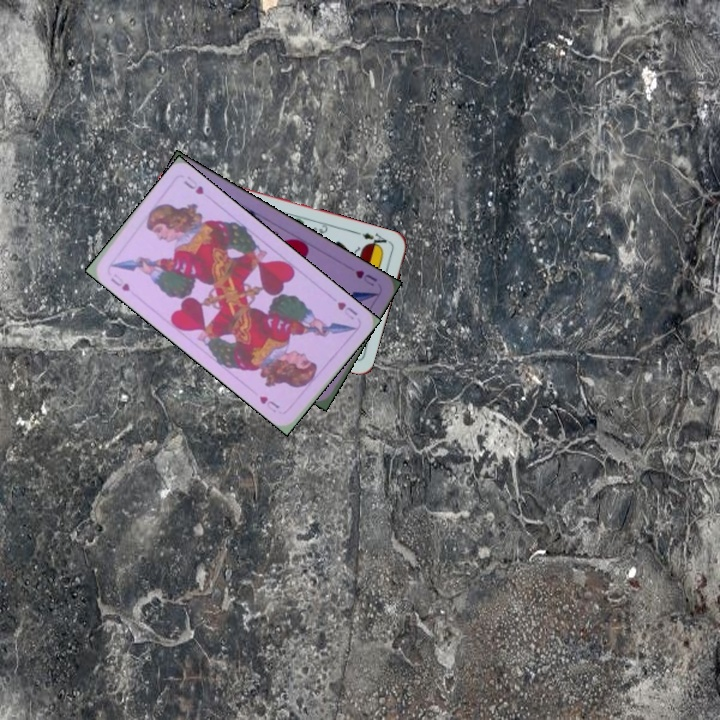EA: (353, 228, 389, 251)
HU: (333, 298, 360, 323), (351, 266, 380, 289), (106, 270, 133, 294)
